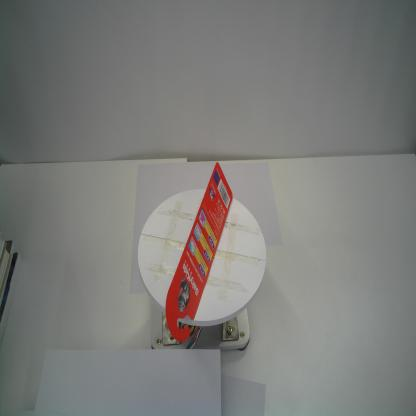Personal Hygiene: (165, 162, 234, 343)
